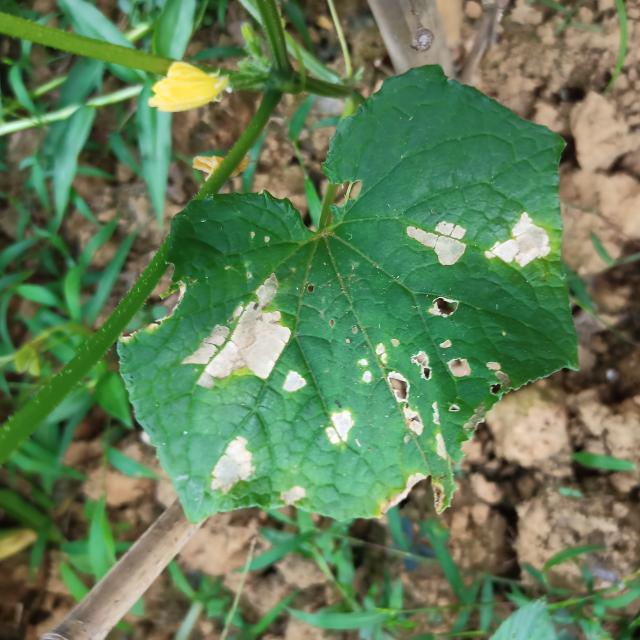disease_cucumber: (190, 278, 290, 391), (353, 339, 434, 436), (480, 203, 554, 276), (432, 293, 479, 385), (403, 213, 471, 269), (205, 434, 260, 496), (320, 404, 358, 454), (275, 480, 308, 508), (280, 368, 306, 394)
